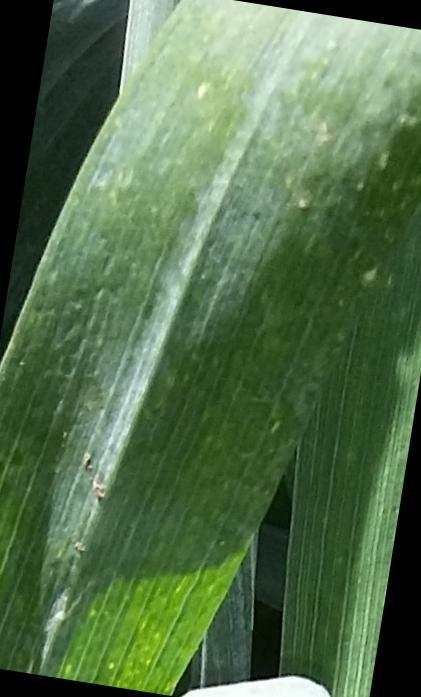Wheat: (128, 31, 421, 288), (28, 301, 272, 502), (305, 296, 368, 678), (11, 515, 177, 659)
